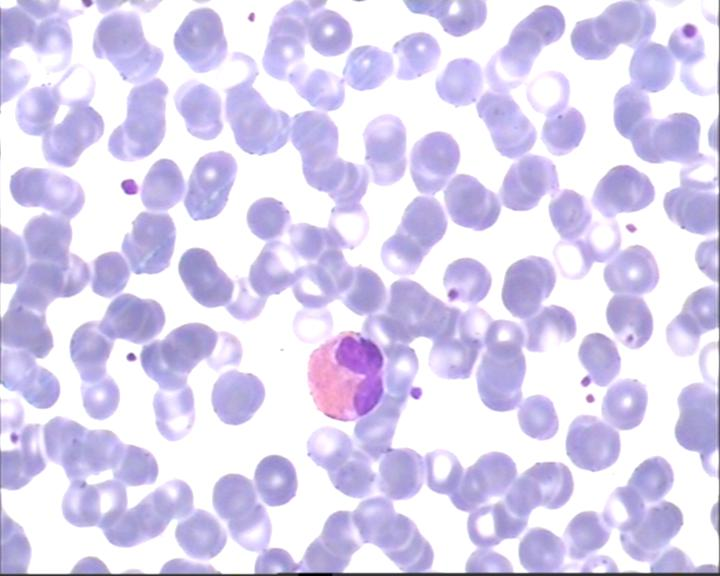eosi: (304, 327, 385, 422)
